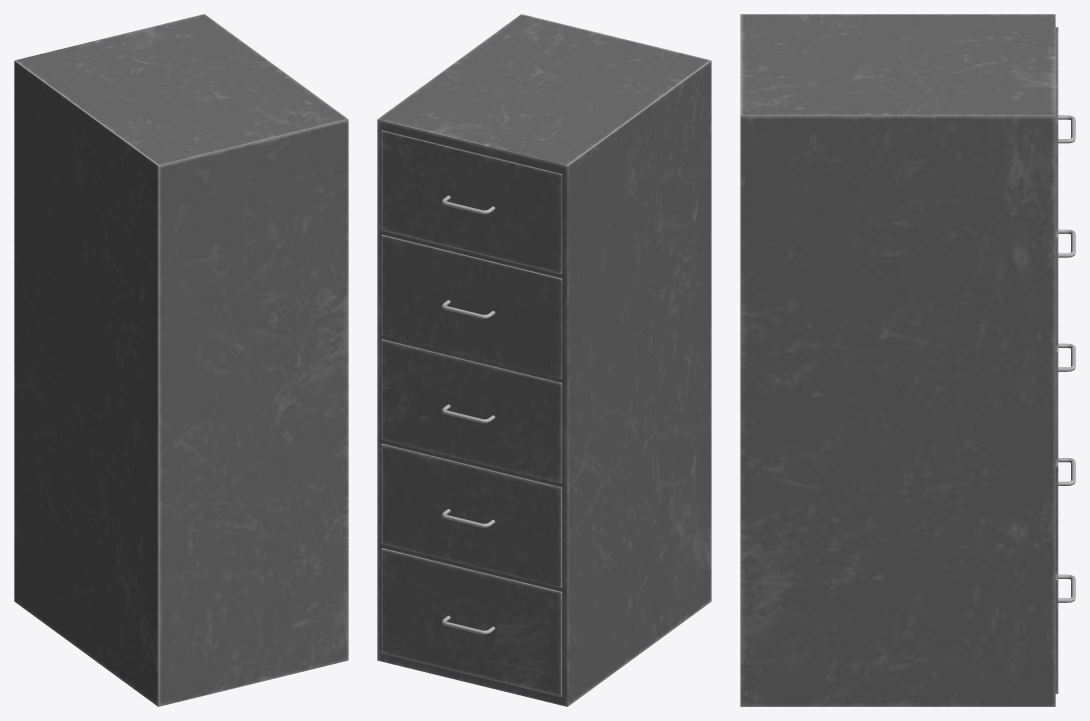
The model's file is SM_OfficeFiles.glb.
3 views of the same model, side by side, from view 1: azimuth 30°, elevation 25°; view 2: azimuth 150°, elevation 25°; view 3: azimuth 270°, elevation 25° (orthographic). The views are drawn at different scales.
Visible parts, largest first — view 1: SM_OfficeFiles; view 2: SM_OfficeFiles; view 3: SM_OfficeFiles.
Part boxes in pixels (left/top/right/bottom): SM_OfficeFiles: left=14, top=14, right=348, bottom=706; SM_OfficeFiles: left=377, top=14, right=711, bottom=706; SM_OfficeFiles: left=740, top=14, right=1075, bottom=706.
Bounding box in the file's own units: 0.7849 × 2.13 × 1.09.
1 material, 1 textured.
